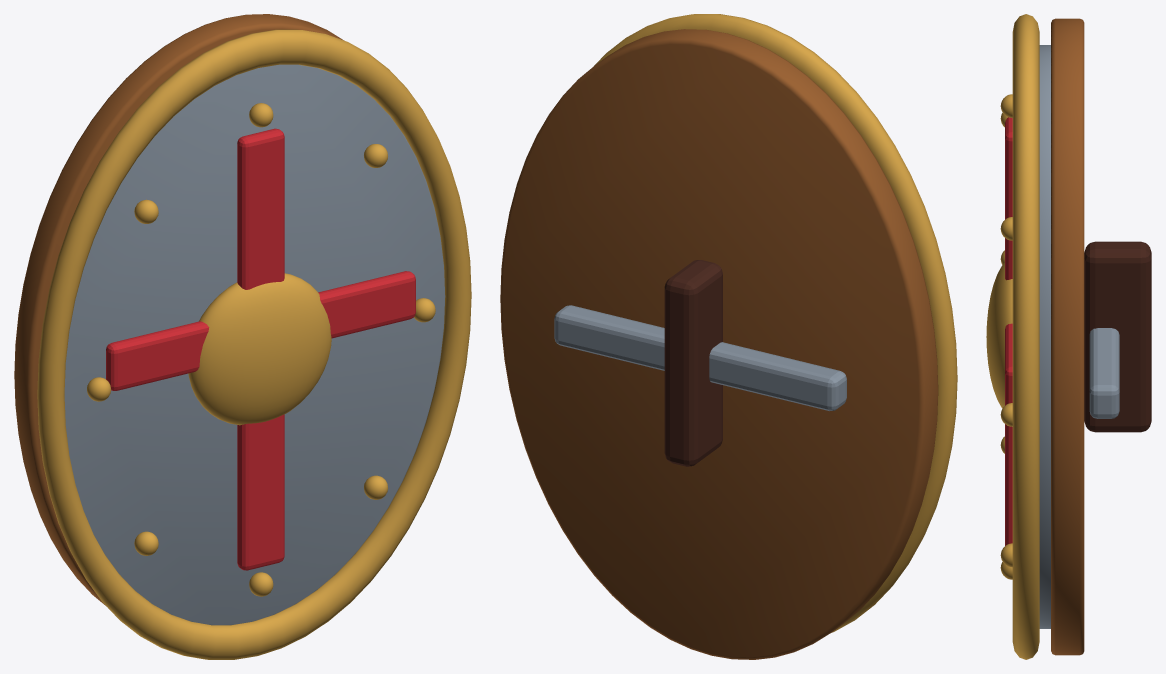
The model's file is medieval_shield.glb.
3 renders of one model, left to right at view 1: azimuth 30°, elevation 25°; view 2: azimuth 150°, elevation 25°; view 3: azimuth 270°, elevation 25°, orthographic.
Visible parts, largest first — view 1: MedievalShield_IronFace, MedievalShield_OuterRim, MedievalShield_WoodCore, MedievalShield_Boss, MedievalShield_CrestVertical, MedievalShield_CrestHorizontal; view 2: MedievalShield_WoodCore, MedievalShield_OuterRim, MedievalShield_BackHandle, MedievalShield_BackBrace; view 3: MedievalShield_WoodCore, MedievalShield_OuterRim, MedievalShield_BackHandle, MedievalShield_IronFace, MedievalShield_BackBrace, MedievalShield_Boss, MedievalShield_CrestVertical, MedievalShield_CrestHorizontal.
Boxes of the visible parts, x1,y1,x2,y2 form: MedievalShield_IronFace: (64, 64, 445, 625); MedievalShield_OuterRim: (37, 29, 471, 659); MedievalShield_WoodCore: (14, 14, 343, 606); MedievalShield_Boss: (188, 273, 331, 425); MedievalShield_CrestVertical: (237, 128, 284, 570); MedievalShield_CrestHorizontal: (106, 271, 415, 390); MedievalShield_WoodCore: (500, 29, 938, 659); MedievalShield_OuterRim: (594, 14, 957, 632); MedievalShield_BackHandle: (664, 260, 722, 466); MedievalShield_BackBrace: (554, 305, 846, 411); MedievalShield_WoodCore: (1051, 18, 1084, 655); MedievalShield_OuterRim: (1012, 14, 1039, 659); MedievalShield_BackHandle: (1084, 241, 1151, 432); MedievalShield_IronFace: (1039, 45, 1050, 628); MedievalShield_BackBrace: (1089, 328, 1119, 418); MedievalShield_Boss: (986, 262, 1012, 408); MedievalShield_CrestVertical: (1005, 117, 1012, 545); MedievalShield_CrestHorizontal: (1005, 323, 1012, 405).
Bounding box in the file's own units: 0.73 × 1.01 × 0.2462.
